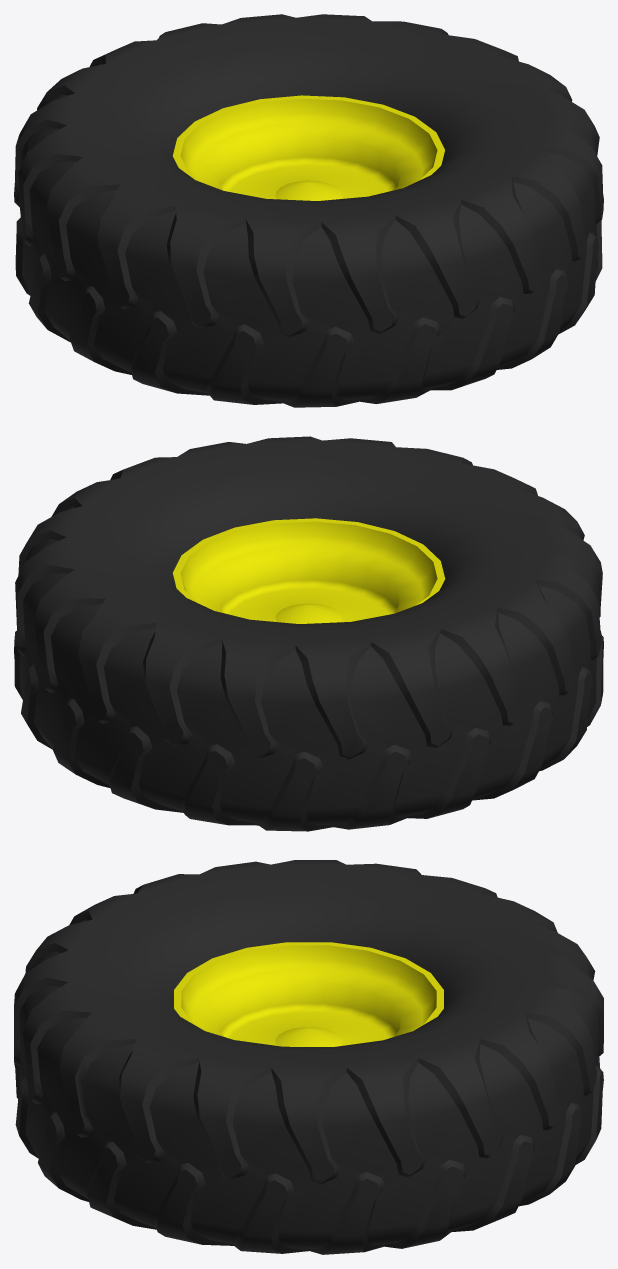
File: Tractor_Tire.fbx
3 views of the same model, one above another, from view 1: azimuth 30°, elevation 25°; view 2: azimuth 150°, elevation 25°; view 3: azimuth 270°, elevation 25° (orthographic).
Parts seen in each view (by area): view 1: Final_Wheel5; view 2: Final_Wheel5; view 3: Final_Wheel5.
Part boxes in pixels (x1,y1,x2,y2): Final_Wheel5: (14,14,603,407); Final_Wheel5: (14,436,603,831); Final_Wheel5: (14,860,603,1254).
Size of the model in its own units: 2.3 by 0.786 by 2.3.
